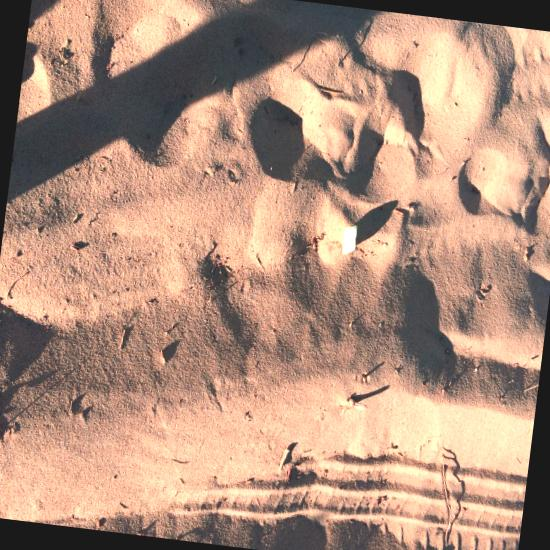Styrofoam piece: (343, 225, 357, 255)
